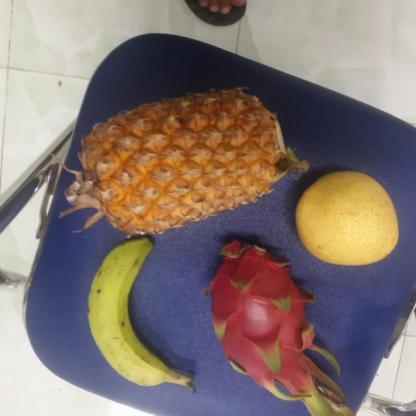banana: (84, 240, 187, 385)
pear: (295, 168, 399, 273)
pineapple: (64, 95, 293, 238)
pitaya: (203, 240, 323, 387)
